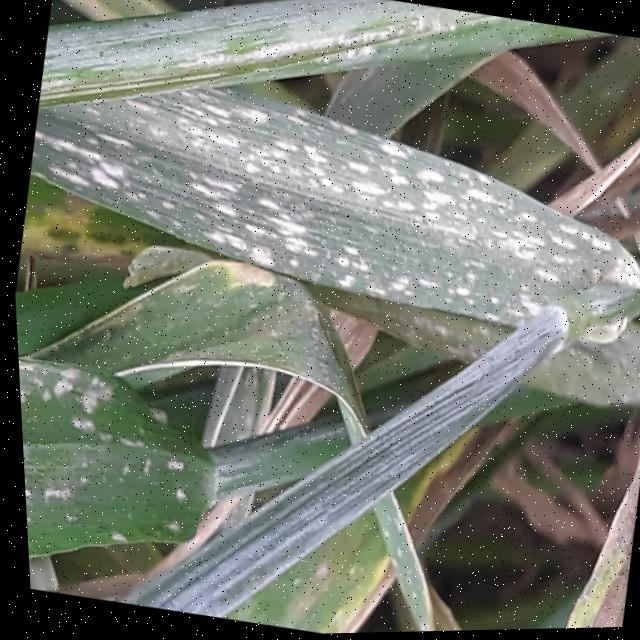powder_mildew: (4, 0, 640, 376), (11, 260, 549, 640), (524, 350, 640, 631)
